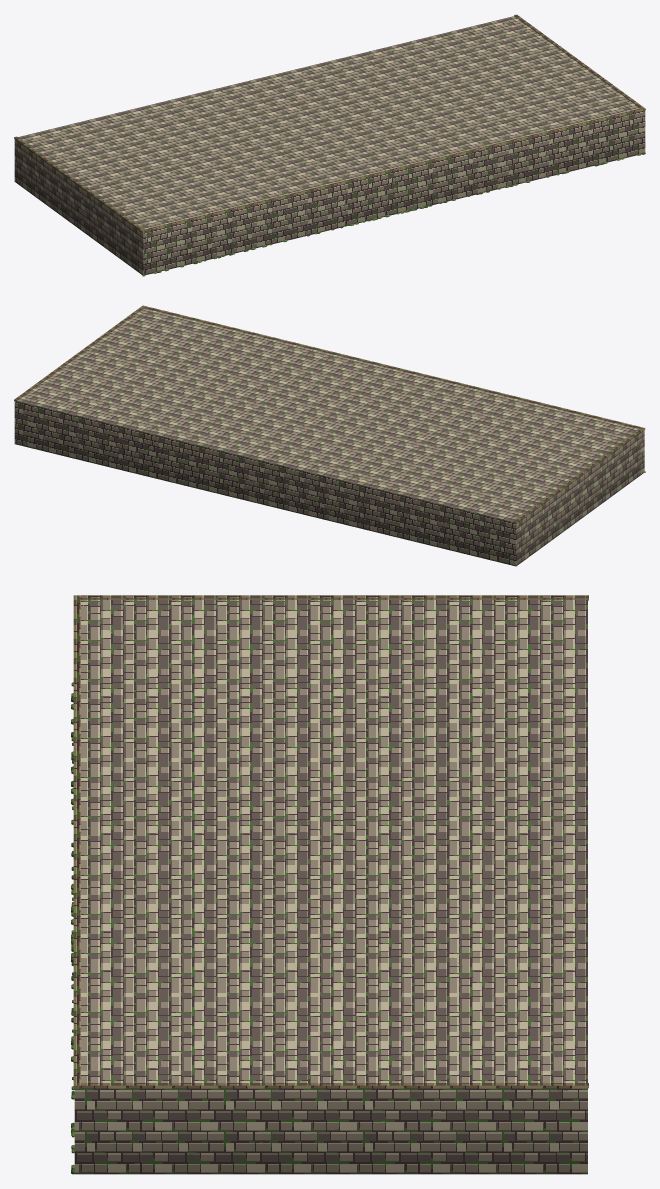
Rendered from scene_wall_n.glb.
The picture shows the model from 3 angles, top to bottom: view 1: azimuth 30°, elevation 25°; view 2: azimuth 150°, elevation 25°; view 3: azimuth 270°, elevation 25°; orthographic projection. The views are drawn at different scales.
Parts seen in each view (by area): view 1: scene_wall_n; view 2: scene_wall_n; view 3: scene_wall_n.
Part boxes in pixels (<box>): scene_wall_n: <box>14,14,645,276</box>; scene_wall_n: <box>14,305,645,566</box>; scene_wall_n: <box>71,595,588,1174</box>.
Size of the model in its own units: 60.18 by 5.17 by 26.84.
Materials: 2 (1 with a texture image).
